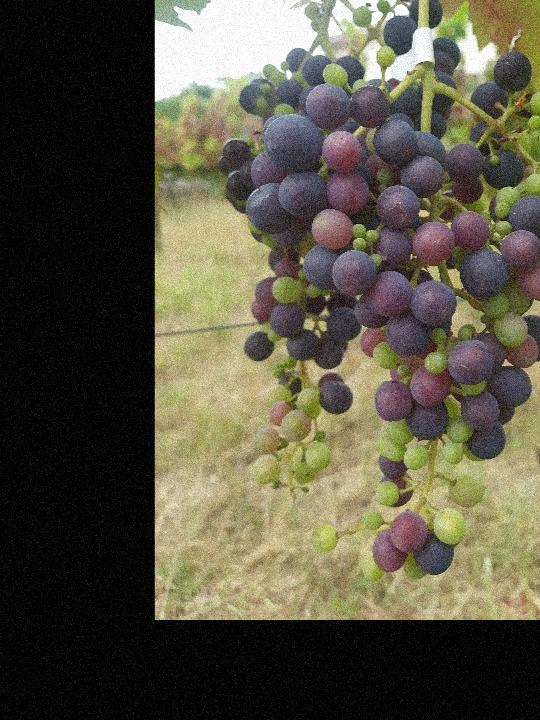grape: (245, 0, 540, 584)
